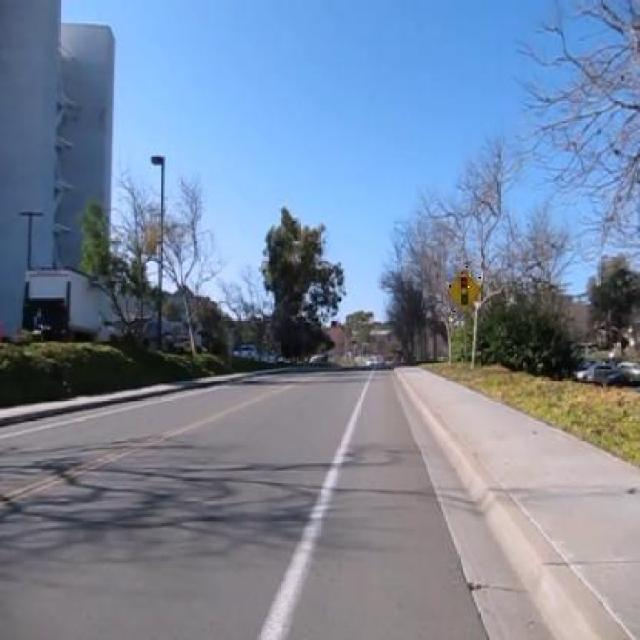signalAhead: (446, 266, 482, 314)
